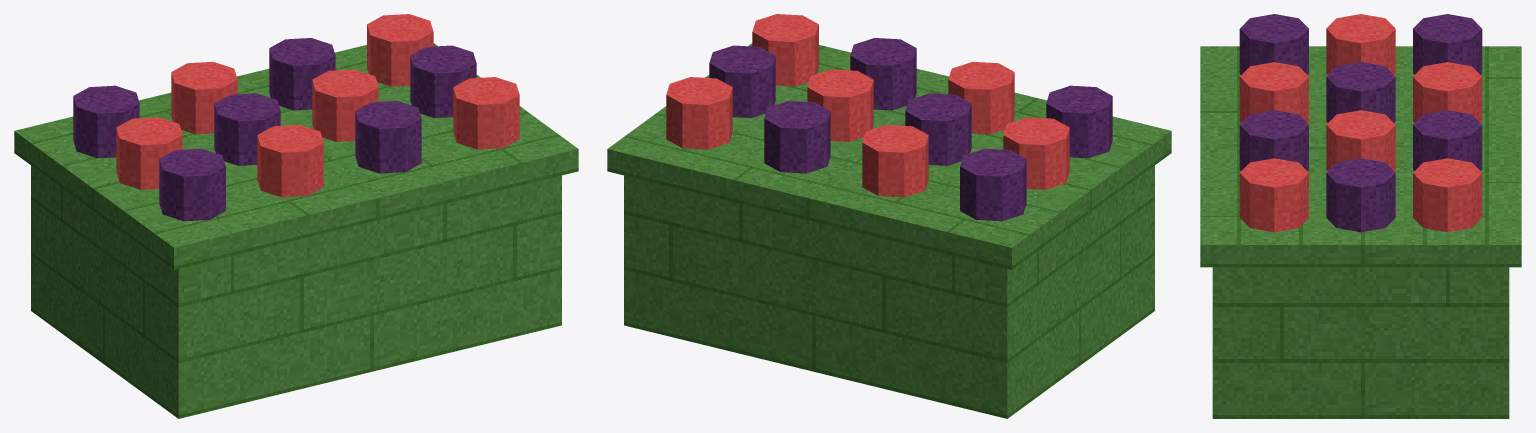
3 views of the same model, side by side, from view 1: azimuth 30°, elevation 25°; view 2: azimuth 150°, elevation 25°; view 3: azimuth 270°, elevation 25° (orthographic).
Visible parts, largest first — view 1: Decor_produce_table_veg; view 2: Decor_produce_table_veg; view 3: Decor_produce_table_veg.
Part boxes in pixels (bbox=[...]): Decor_produce_table_veg: bbox=[14, 14, 578, 418]; Decor_produce_table_veg: bbox=[607, 14, 1171, 418]; Decor_produce_table_veg: bbox=[1200, 14, 1521, 418].
Bounding box in the file's own units: 1.9 × 1 × 1.3.
3 materials, 3 textured.
